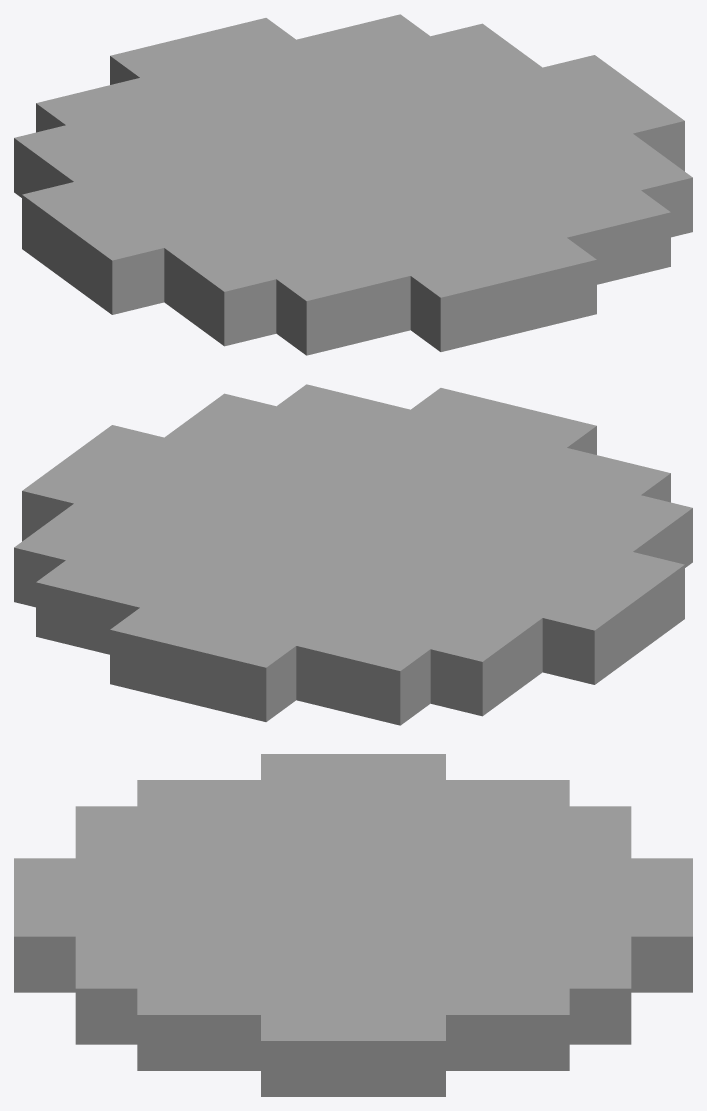
Rendered from TableTop1.obj.
3 renders of one model, top to bottom at view 1: azimuth 30°, elevation 25°; view 2: azimuth 150°, elevation 25°; view 3: azimuth 270°, elevation 25°, orthographic. The views are drawn at different scales.
Bounding box in the file's own units: 1.1 × 0.1 × 1.1.
